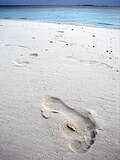human_footprint: (41, 96, 96, 152), (12, 53, 39, 67)
